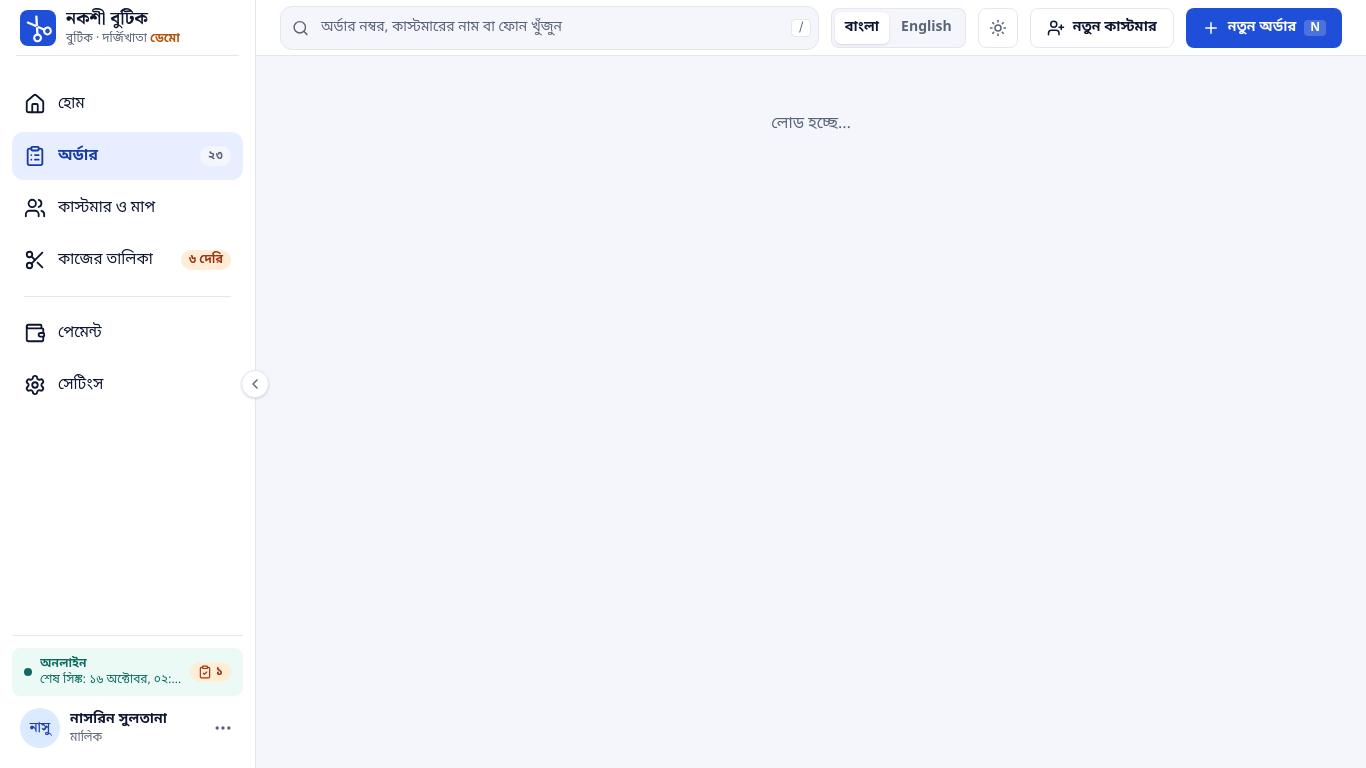
Test: Sync status › keeps the connection in words and counts the sample change for someone who can settle it
This screenshot has width=1366, height=768.
Click the button "অনলাইন শেষ সিঙ্ক: ১৬ অক্টোবর, ০২:৪৪ ১" at (128,672), box left=12, top=648, right=243, bottom=696
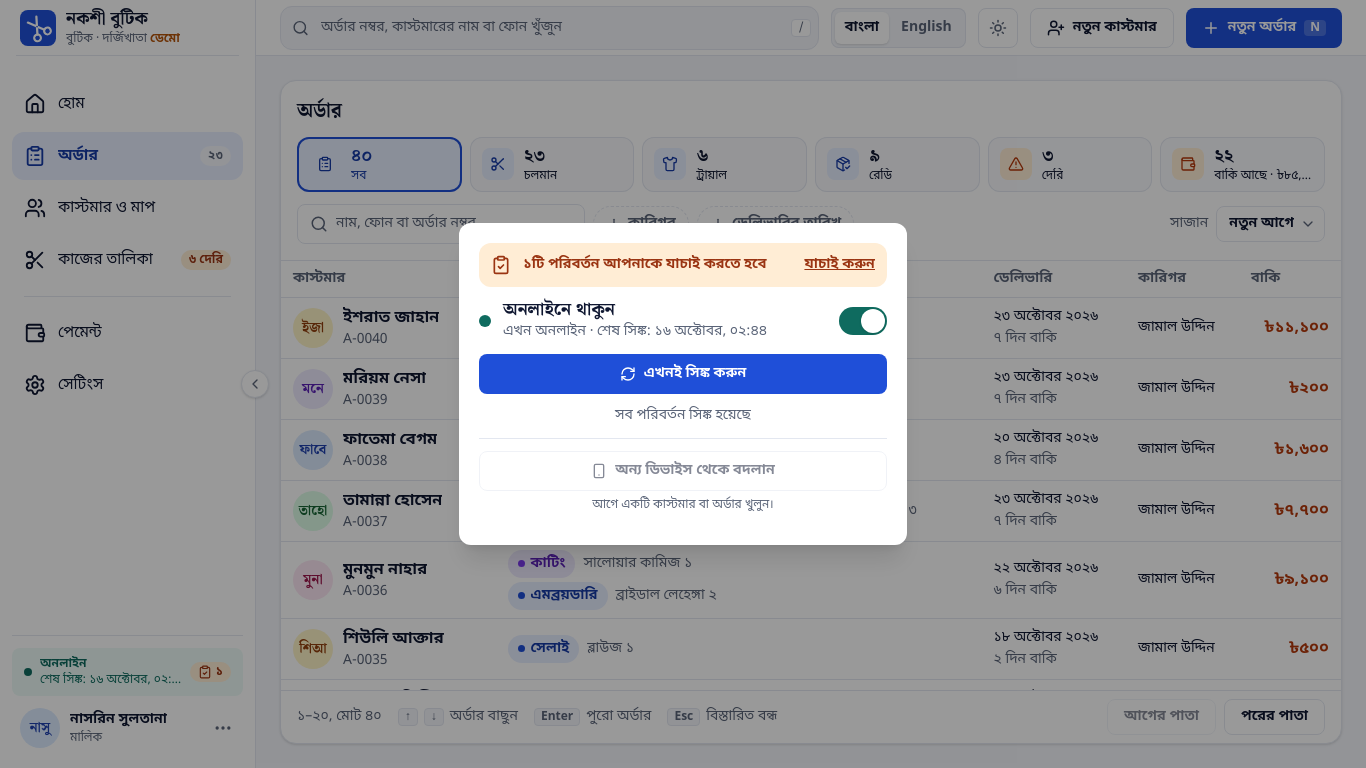
Check: the link "১টি পরিবর্তন আপনাকে যাচাই করতে হবে যাচাই করুন" is shown, box left=479, top=243, right=887, bottom=287
Check: the text "অনলাইনে থাকুন" is shown, box left=503, top=295, right=615, bottom=324
Check: the text "এখন অনলাইন · শেষ সিঙ্ক: ১৬ অক্টোবর, ০২:৪৪" is shown, box left=503, top=322, right=767, bottom=341
